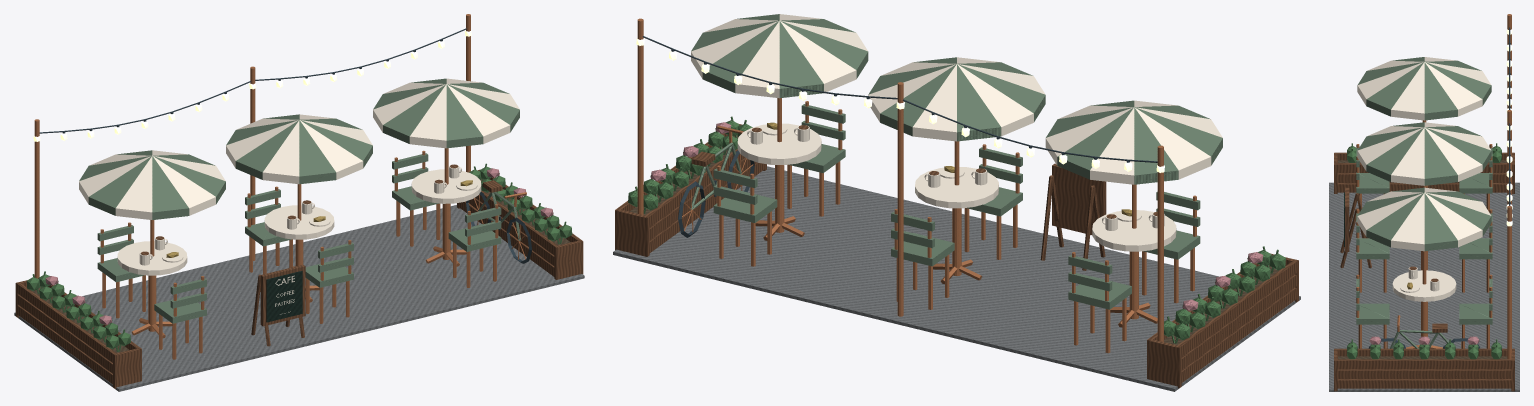
Rendered from cafe_patio.glb.
3 views of the same model, side by side, from view 1: azimuth 30°, elevation 25°; view 2: azimuth 150°, elevation 25°; view 3: azimuth 270°, elevation 25° (orthographic). The views are drawn at different scales.
Visible parts, largest first — view 1: patio_pavers, menu_chalkboard, table_1, table_2, table_0, parasol_0_stripe_4, parasol_2_stripe_3, parasol_1_stripe_3, parasol_1_stripe_4, parasol_2_stripe_4, parasol_0_stripe_3, planter_wood.002 (+34 smaller); view 2: patio_pavers, menu_frame, table_1, table_2, table_0, parasol_2_stripe_7, parasol_0_stripe_8, parasol_1_stripe_8, parasol_1_stripe_7, parasol_2_stripe_8, planter_wood.002, parasol_0_stripe_7 (+37 smaller); view 3: patio_pavers, planter_wood.011, planter_wood.009, planter_wood.010, table_2, parasol_1_stripe_0, parasol_1_stripe_11, parasol_2_stripe_0, parasol_2_stripe_11, parasol_0_stripe_0, parasol_0_stripe_11, parasol_2_stripe_1 (+40 smaller).
Boxes of the visible parts, box(x1,y1,x2,y2) form: patio_pavers: box(14, 205, 584, 391); menu_chalkboard: box(266, 271, 302, 322); table_1: box(264, 205, 334, 239); table_2: box(411, 169, 481, 203); table_0: box(117, 241, 187, 275); parasol_0_stripe_4: box(115, 156, 152, 219); parasol_2_stripe_3: box(446, 84, 483, 148); parasol_1_stripe_3: box(299, 120, 336, 184); parasol_1_stripe_4: box(262, 120, 299, 184); parasol_2_stripe_4: box(409, 84, 446, 148); parasol_0_stripe_3: box(152, 156, 189, 219); planter_wood.002: box(16, 282, 117, 362); patio_pavers: box(613, 166, 1300, 391); menu_frame: box(1052, 163, 1106, 234); table_1: box(915, 167, 998, 208); table_2: box(737, 123, 821, 164); table_0: box(1092, 210, 1176, 251); parasol_2_stripe_7: box(779, 21, 823, 98); parasol_0_stripe_8: box(1090, 107, 1134, 184); parasol_1_stripe_8: box(912, 64, 956, 141); parasol_1_stripe_7: box(957, 64, 1001, 141); parasol_2_stripe_8: box(735, 21, 779, 98); planter_wood.002: box(1175, 259, 1298, 356); parasol_0_stripe_7: box(1134, 107, 1178, 184); patio_pavers: box(1329, 182, 1519, 391); planter_wood.011: box(1334, 359, 1514, 369); planter_wood.009: box(1334, 379, 1513, 388); planter_wood.010: box(1336, 369, 1513, 378); table_2: box(1392, 270, 1456, 301); parasol_1_stripe_0: box(1391, 127, 1424, 185); parasol_1_stripe_11: box(1424, 128, 1457, 185); parasol_2_stripe_0: box(1391, 193, 1424, 251); parasol_2_stripe_11: box(1424, 193, 1457, 251); parasol_0_stripe_0: box(1391, 62, 1424, 120); parasol_0_stripe_11: box(1424, 62, 1457, 120); parasol_2_stripe_1: box(1366, 193, 1423, 247).
Bounding box in the file's own units: 9.55 × 3.8 × 3.7.
12 materials, 10 textured.
